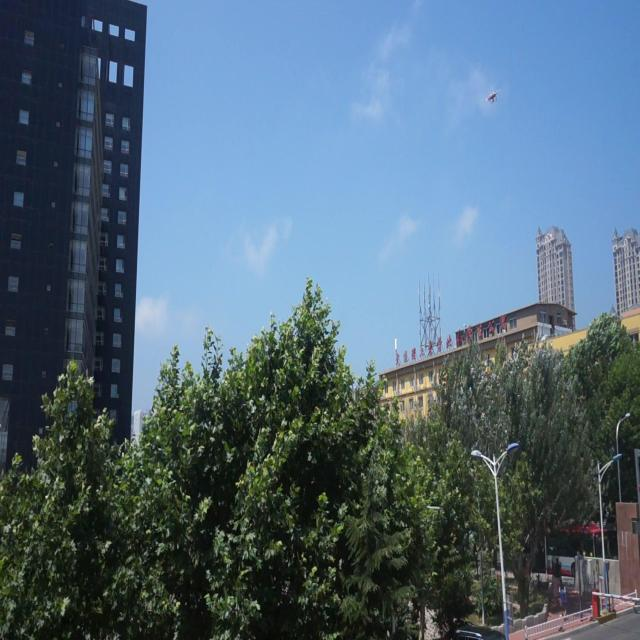drone: (485, 89, 499, 105)
